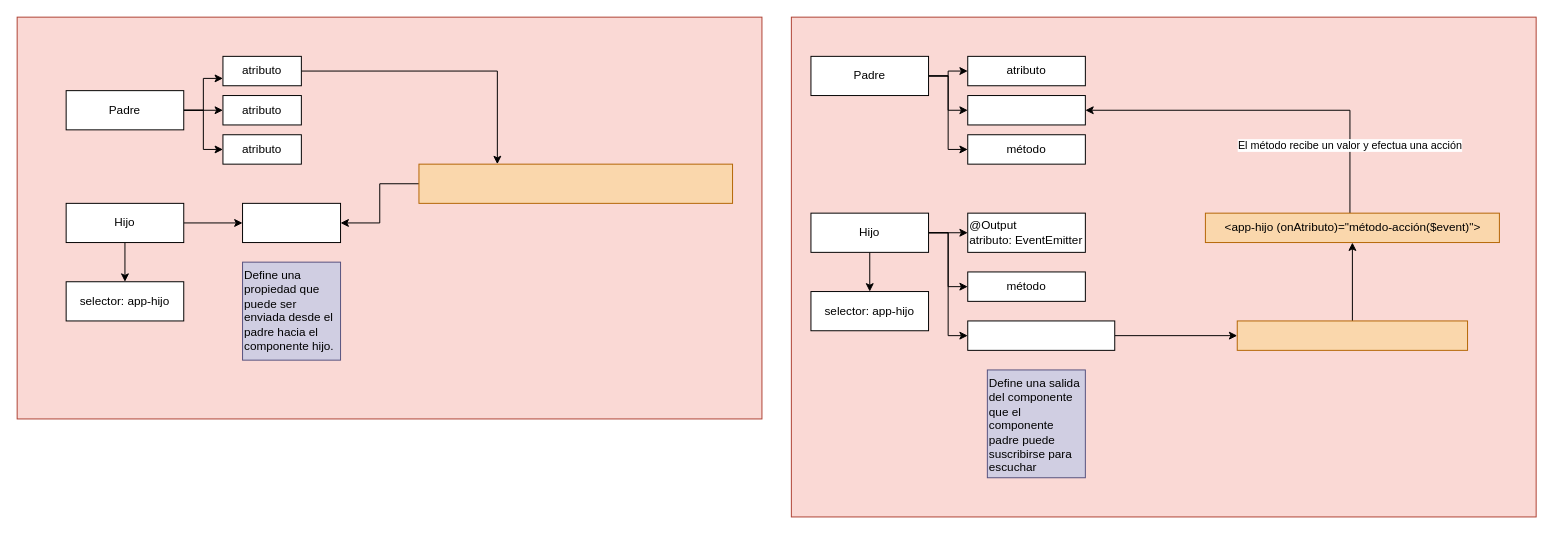
Image size: 1553x534. Some labels were removed from this diagram. The box of each missing label's shape, as (x1, y1, x2, y2) in pixels:
<app-hijo [atributo-rellenar]="atributo-padre"></app-hijo>: (418, 163, 733, 203)
@Input atributo- rellenar: (242, 202, 341, 243)
método-acción: (967, 95, 1085, 125)
método-emite(value) { this.atributo.emit(value)}: (967, 320, 1115, 350)
Si se da algun tipo de evento: (unEvento)="método-emite(value)": (1236, 320, 1468, 350)
